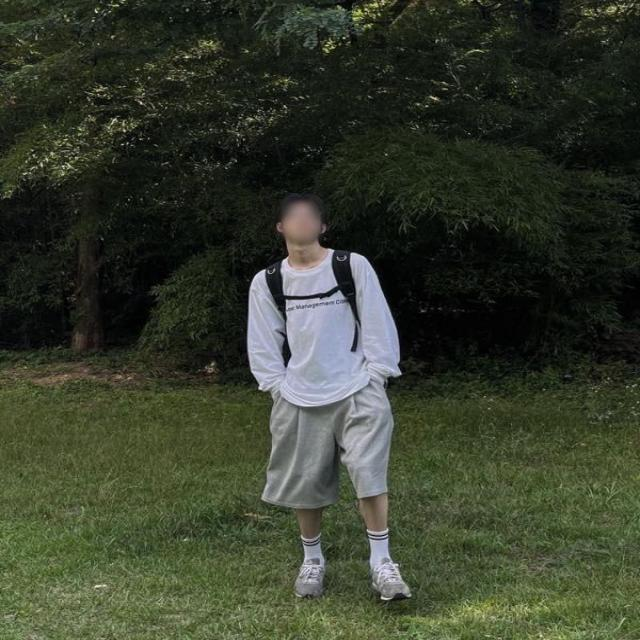longsleeve: (249, 248, 402, 406)
shortpants: (262, 373, 395, 507)
